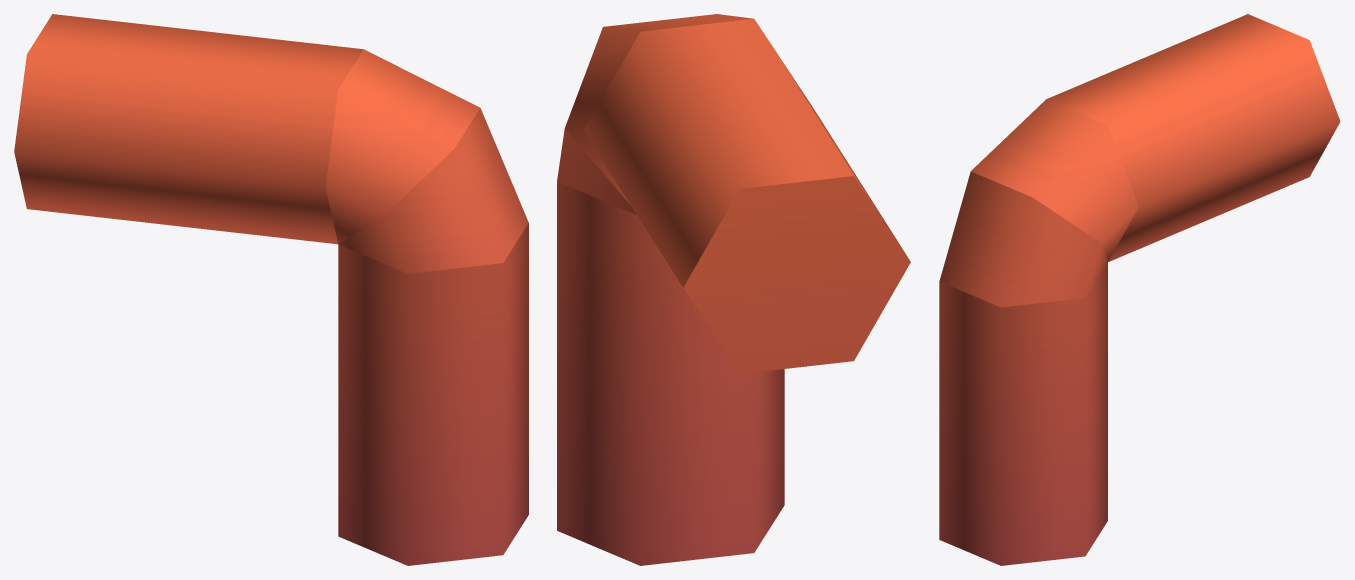
File: pipe_corner_4__4_lev4.glb
The picture shows the model from 3 angles, left to right: view 1: azimuth 30°, elevation 25°; view 2: azimuth 150°, elevation 25°; view 3: azimuth 270°, elevation 25°; orthographic projection. The views are drawn at different scales.
Parts seen in each view (by area): view 1: pipe_corner_4__4_lev4; view 2: pipe_corner_4__4_lev4; view 3: pipe_corner_4__4_lev4.
Part boxes in pixels (box(x1,y1,x2,y2)): pipe_corner_4__4_lev4: box(14, 14, 528, 565); pipe_corner_4__4_lev4: box(557, 14, 910, 565); pipe_corner_4__4_lev4: box(939, 14, 1340, 565).
Bounding box in the file's own units: 0.4596 × 0.5 × 0.4596.
1 material, 1 textured.
